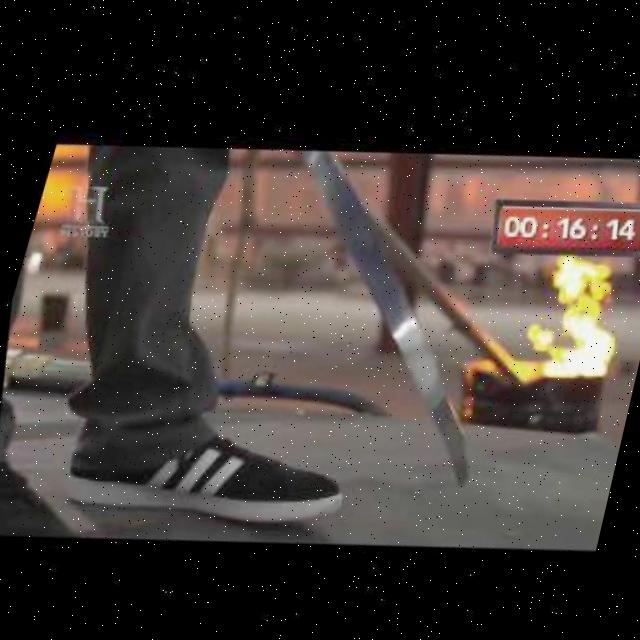fire: (510, 240, 640, 392)
